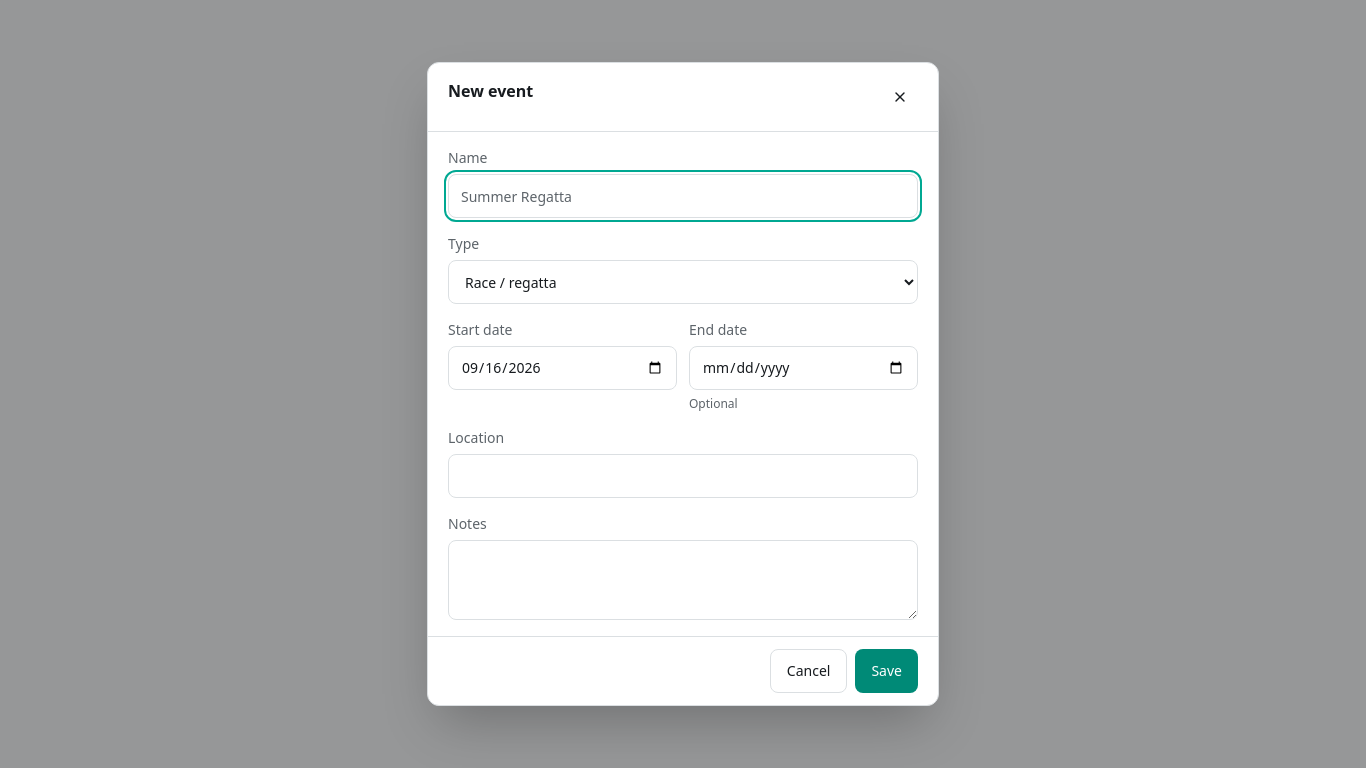
it: EventForm weekly series › adding a weekday grows the series
The width and height of the screenshot is (1366, 768).
In the field labelled "Name": (683, 196) [448,174,918,218], type "Water Training"
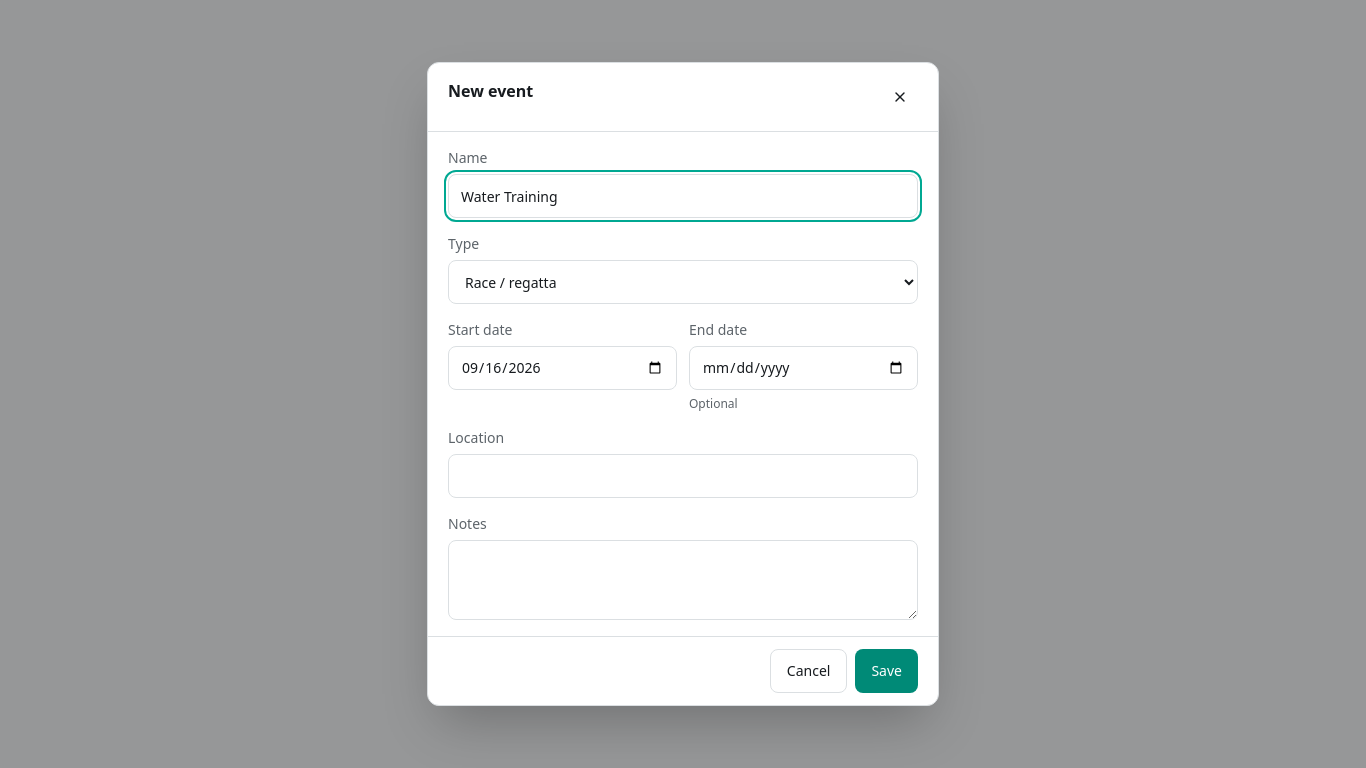
Select "Practice" in the dropdown labelled "Type": (683, 282) [448,260,918,304]
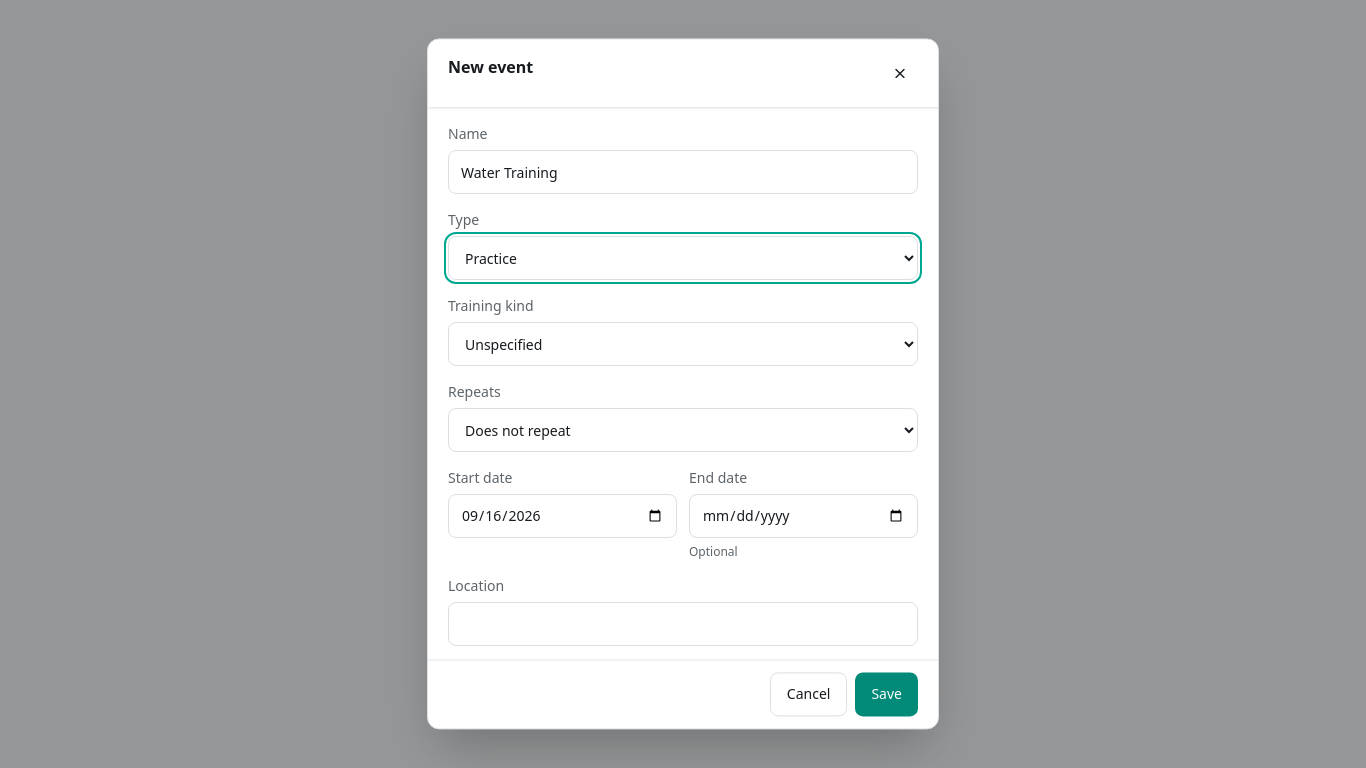
Select "Weekly, on chosen days" in the dropdown labelled "Repeats": (683, 430) [448,408,918,452]
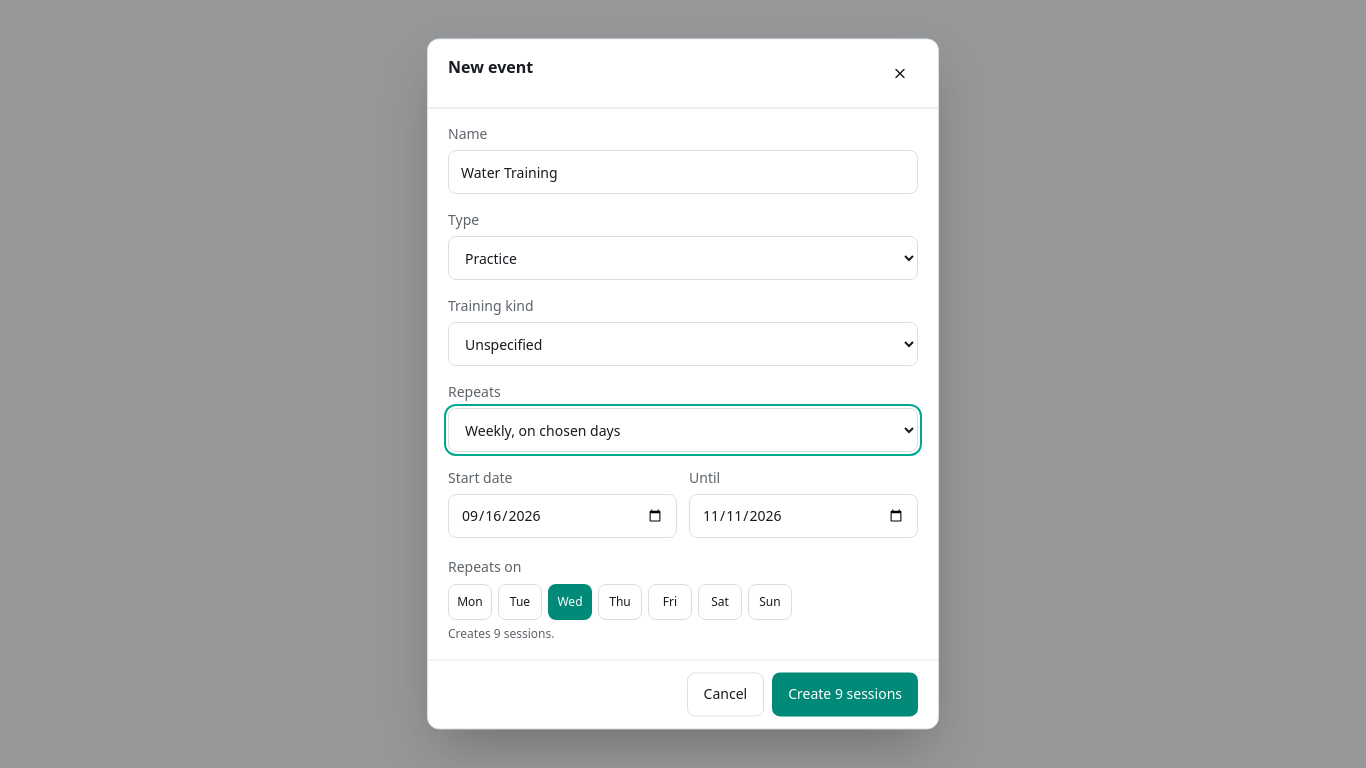
Now the button "Create 9 sessions" is shown, box [772,673,918,717]
Click the button with aria-label "Thursday": (620, 602) [598,584,642,620]
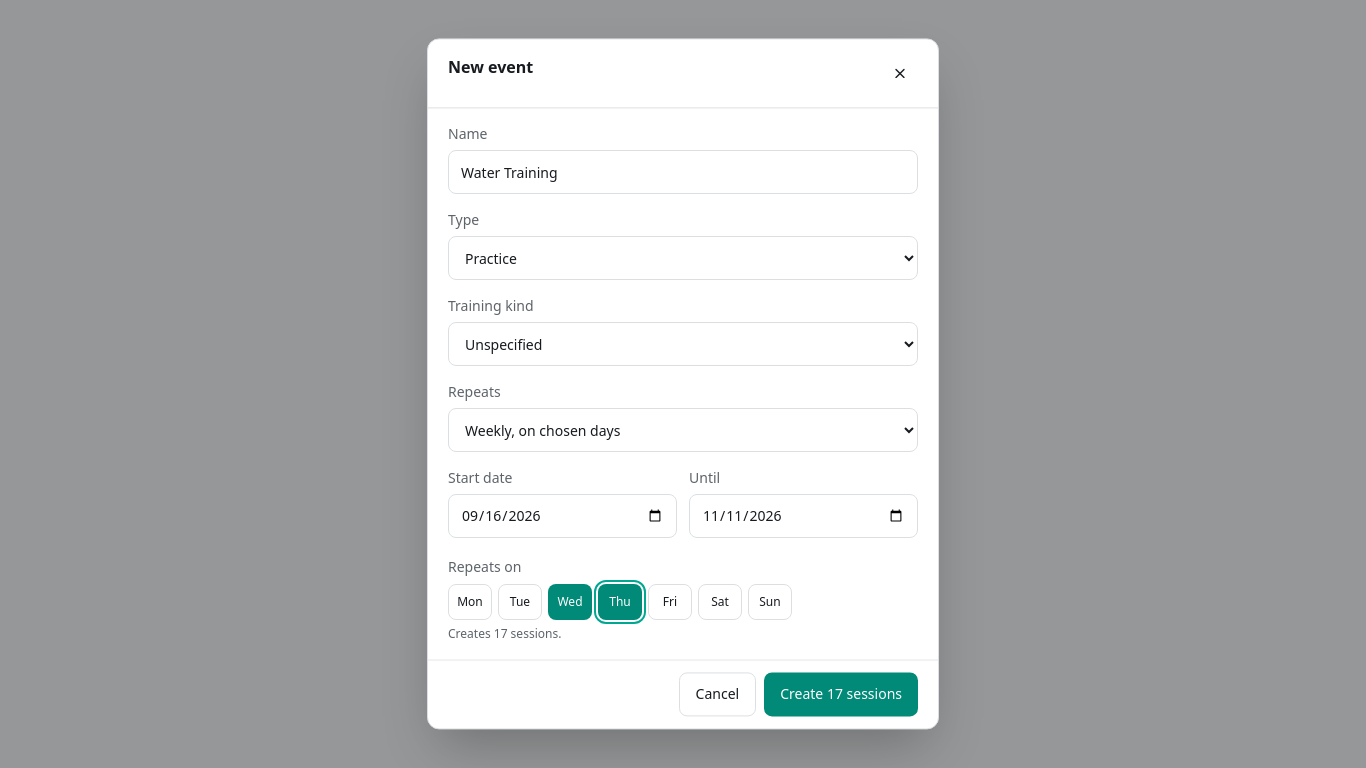
Now the button "Create 17 sessions" is shown, box [764,673,918,717]
